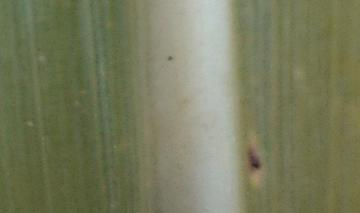tarspot: (248, 146, 261, 168), (167, 54, 174, 61)
